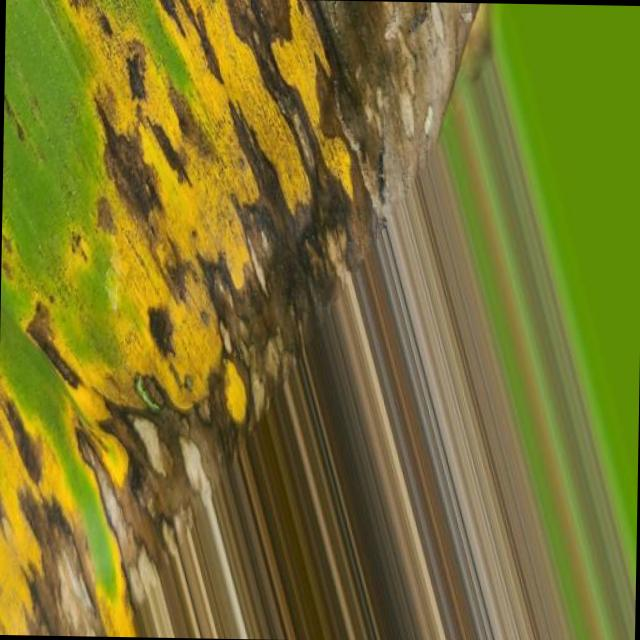Banana_Black_Sigatoka: (0, 254, 319, 625), (1, 0, 470, 245)
